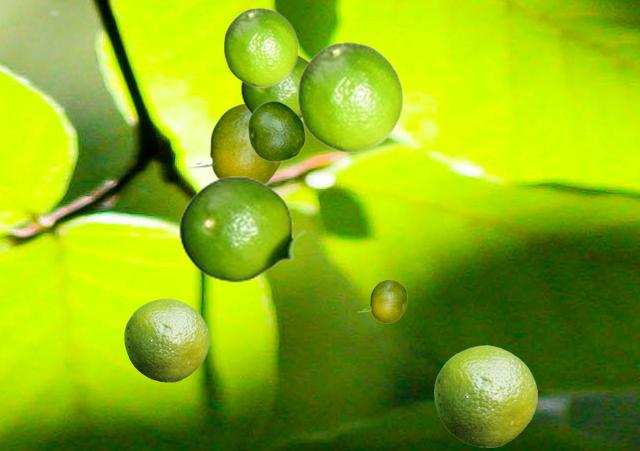calamansi: (178, 176, 306, 282), (297, 41, 403, 151), (434, 345, 536, 446), (184, 103, 282, 183), (124, 298, 208, 381), (223, 7, 298, 86), (240, 52, 308, 114), (247, 100, 305, 161), (357, 279, 406, 322)
